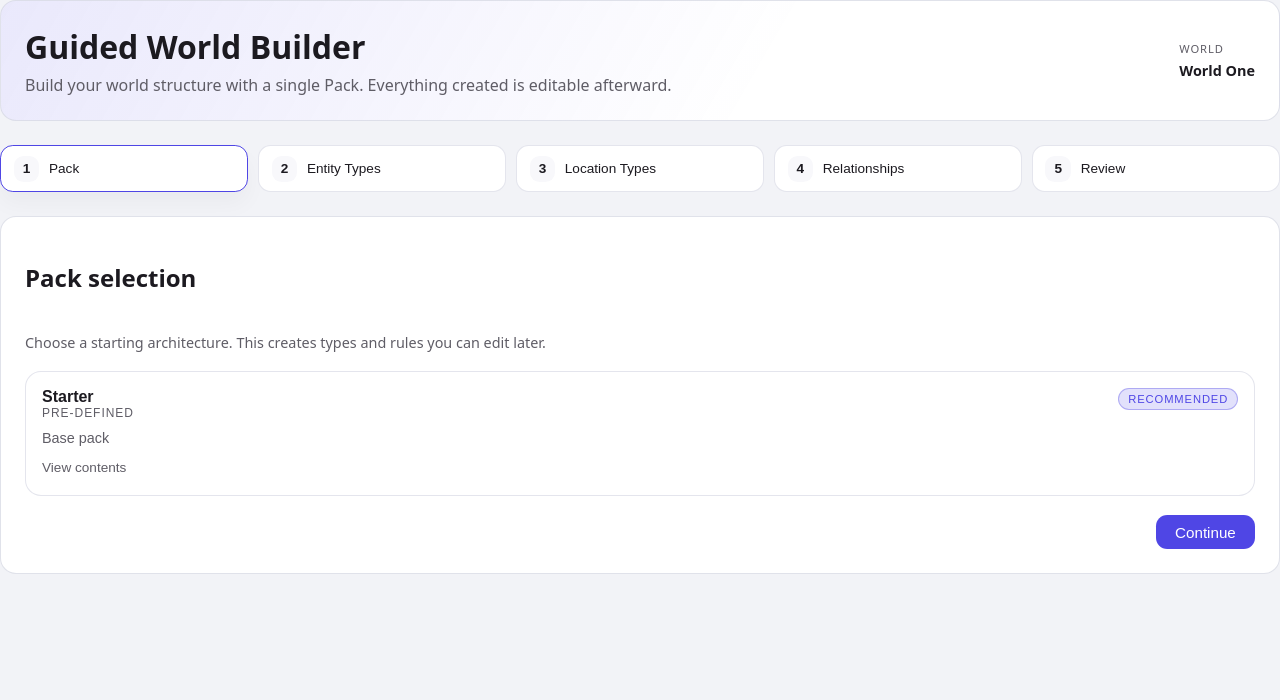
Test: WorldBuilder › auto-generates relationship defaults and keeps edit rules disabled pre-create
The width and height of the screenshot is (1280, 700).
Click the text "Starter": (68, 397) [42,388,94,405]
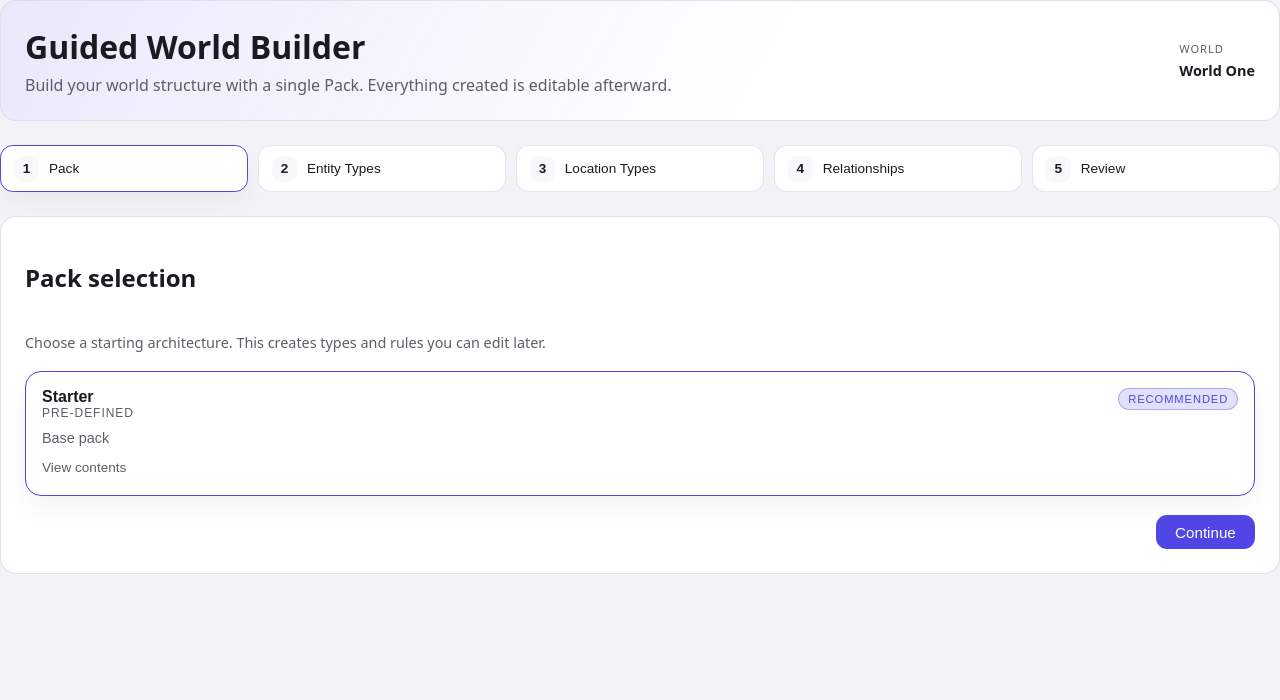
Click the button "Continue": (1205, 532) [1156,515,1255,549]
(page scrolled)
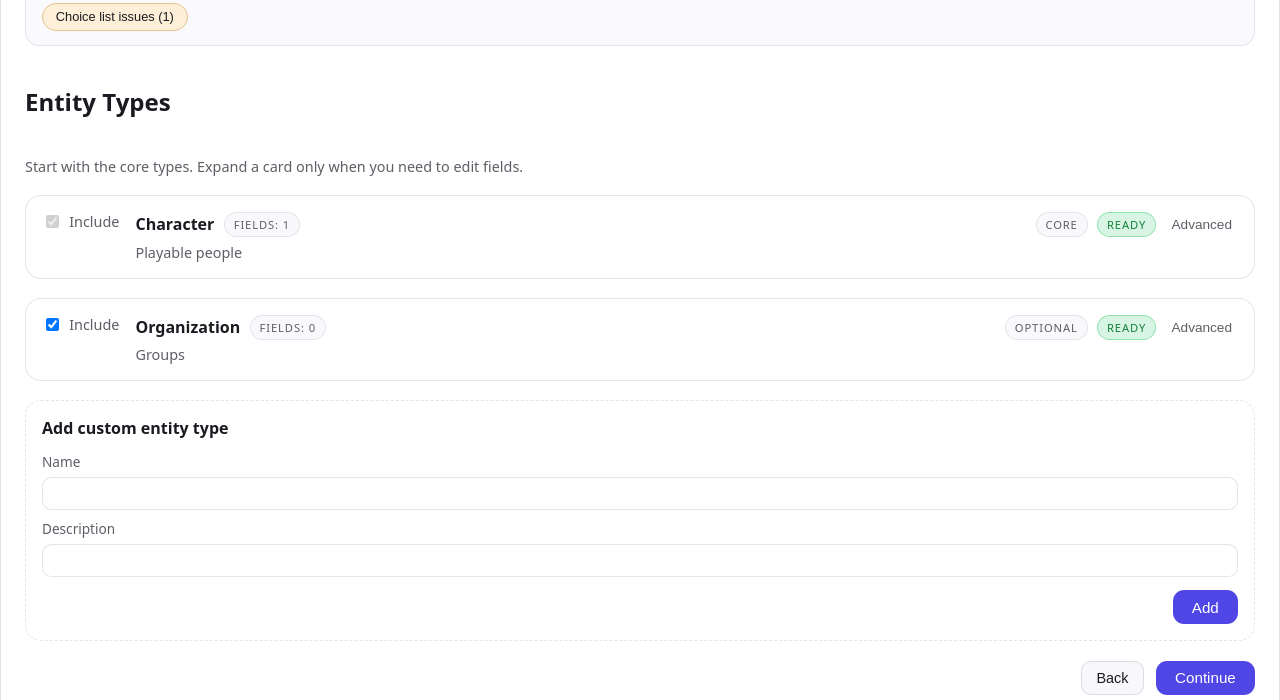
Now the heading "Entity Types" is shown, box [25,85,171,118]
Click the button "Continue": (1205, 678) [1156,661,1255,695]
(page scrolled)
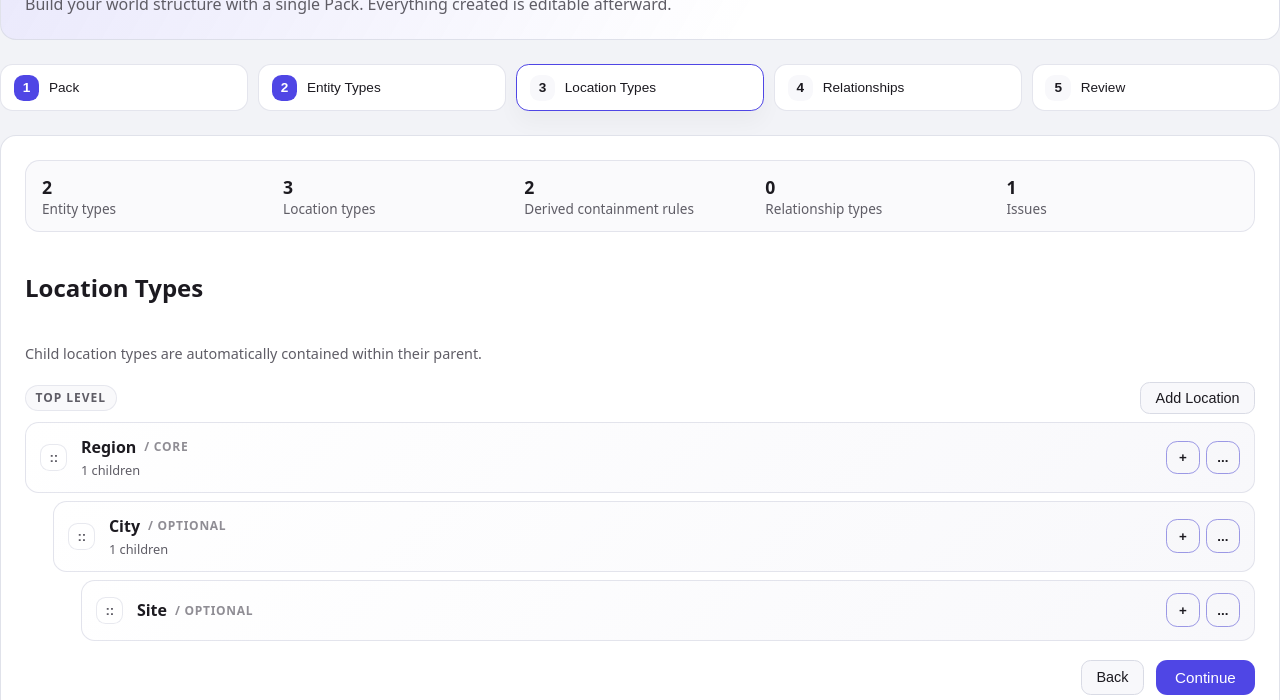
Click the button "Continue": (1205, 677) [1156,660,1255,695]
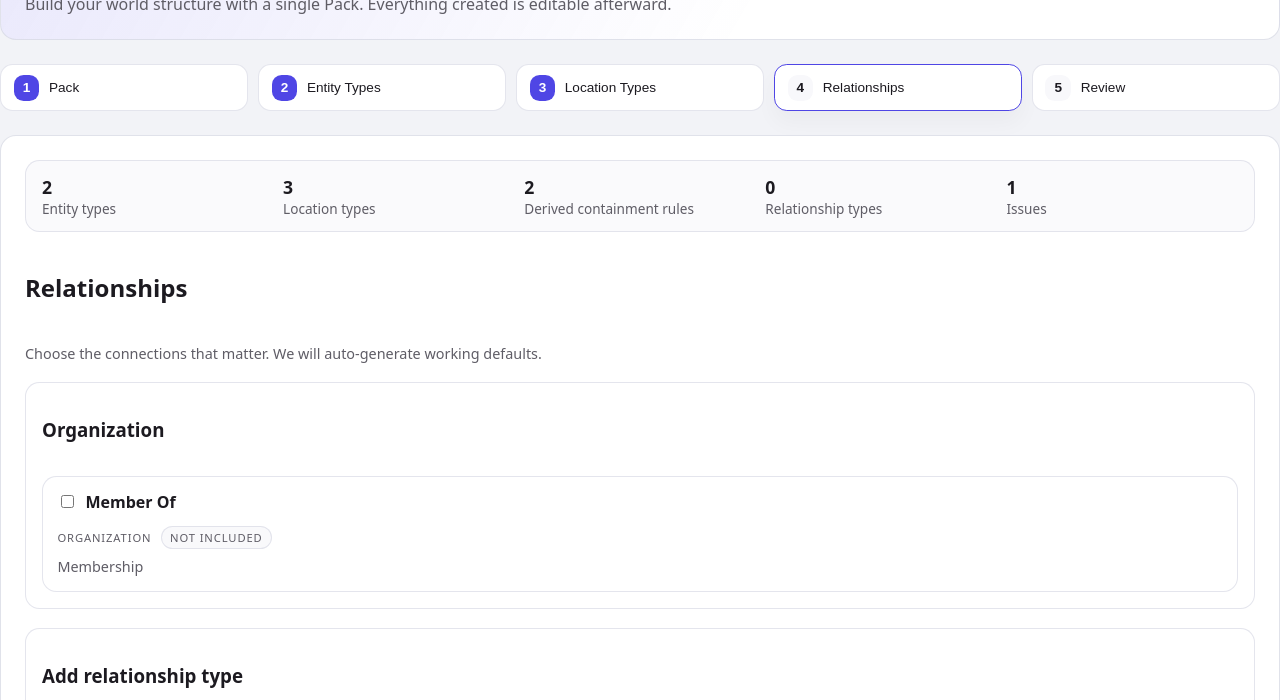
Now the heading "Relationships" is shown, box [25,272,187,304]
Click the checkbox: (68, 502) [61,496,74,508]
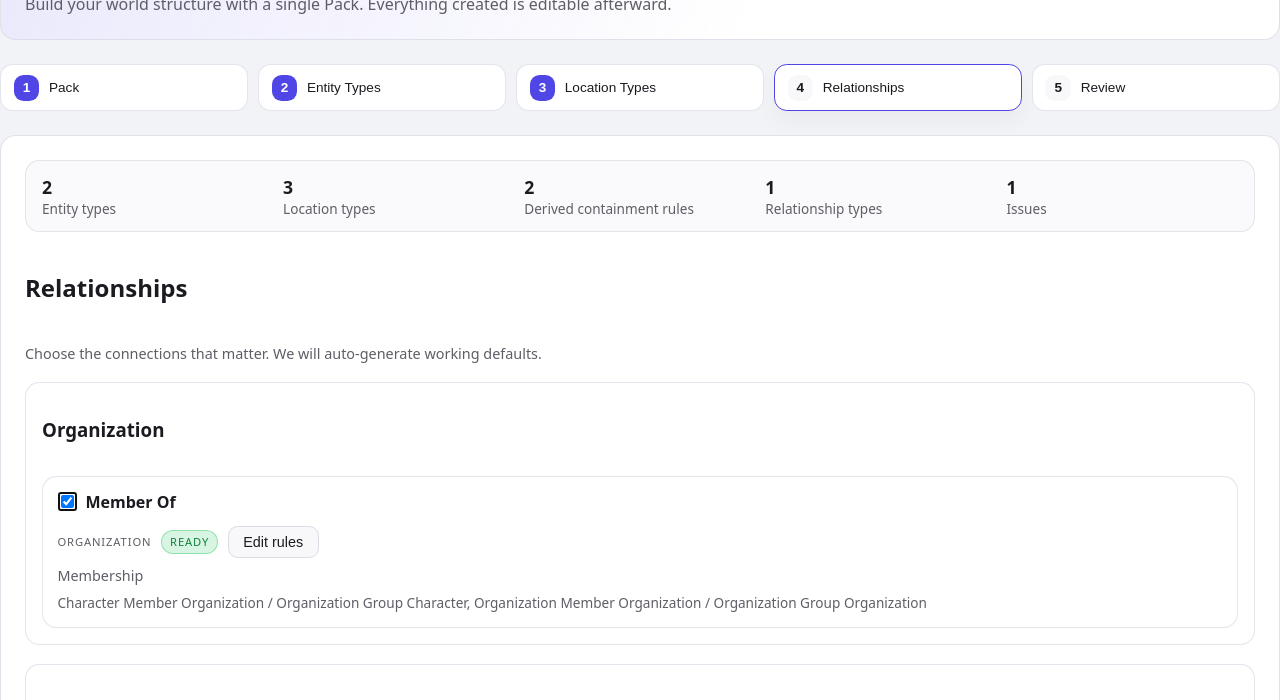
Now the text "Character Member Organization" is shown, box [57,593,927,612]
Now the button "Edit rules" is enabled, box [228,526,319,558]
